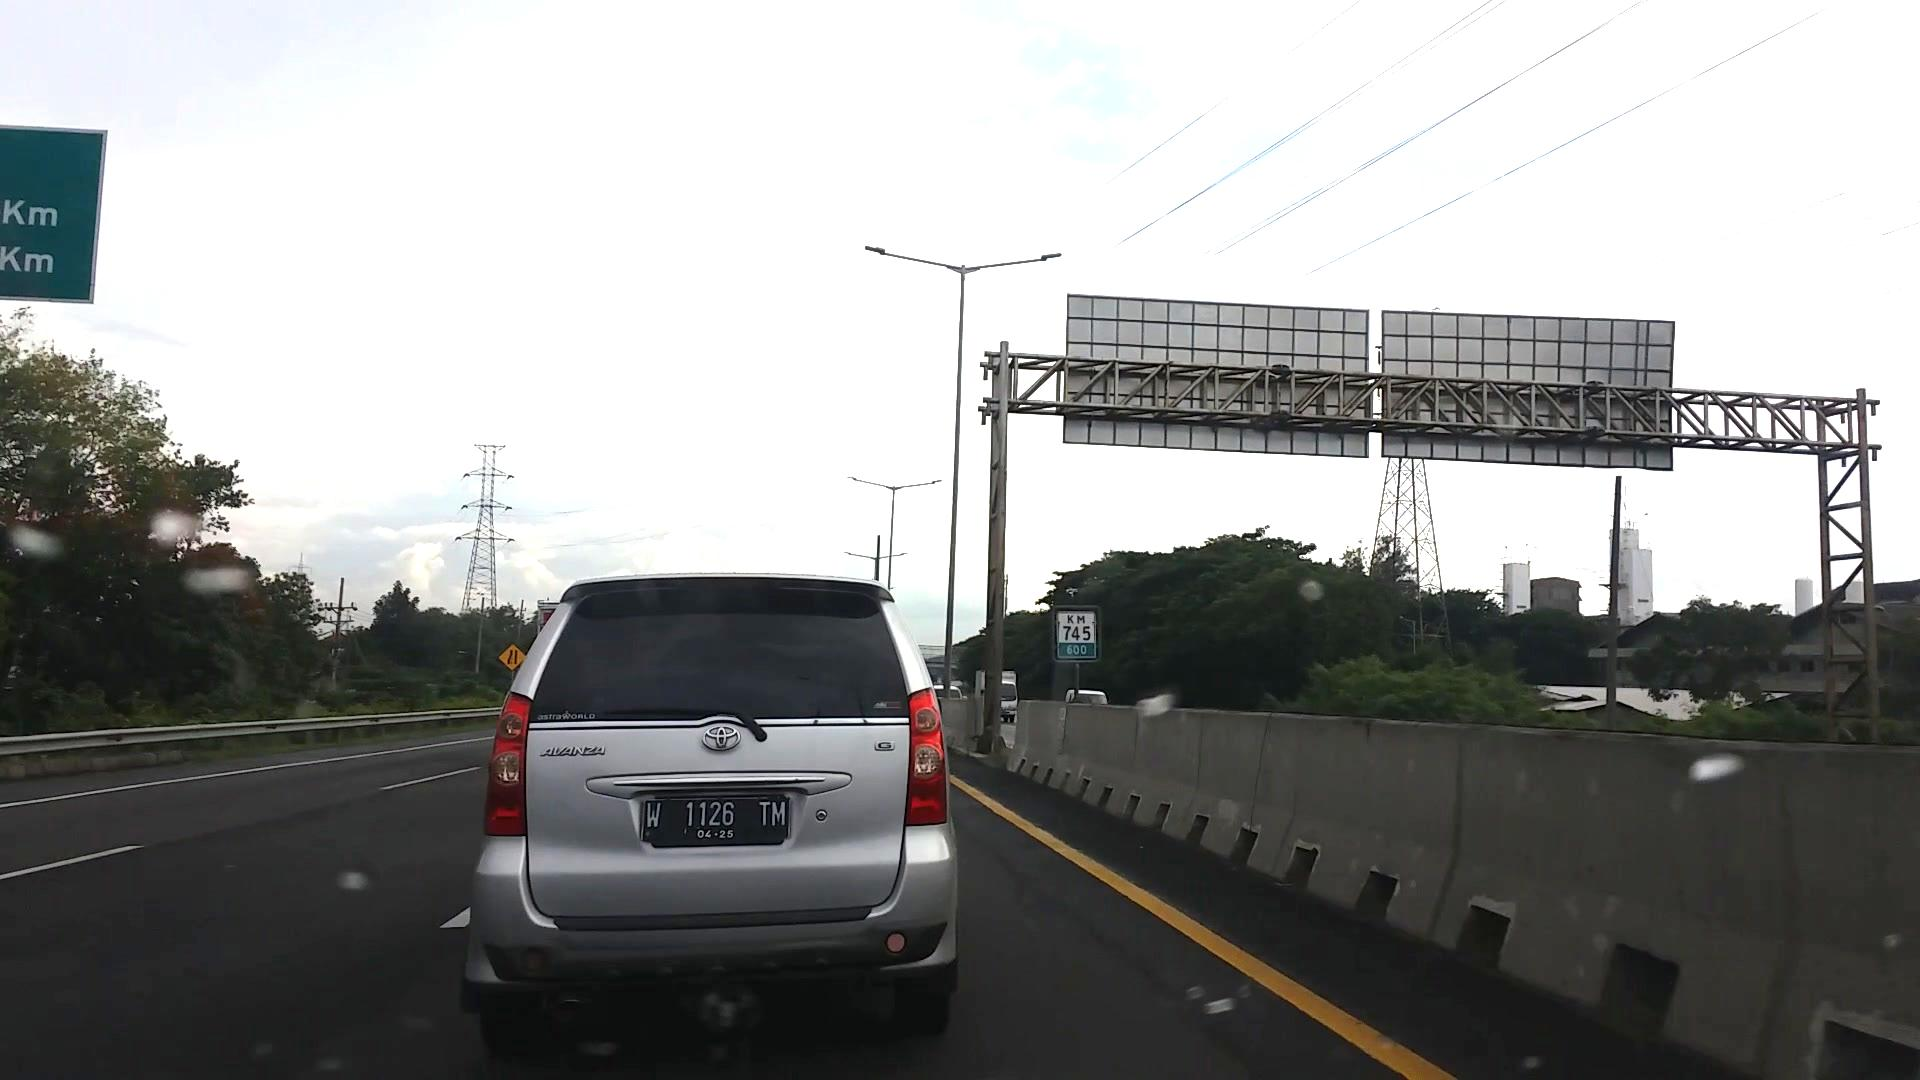plate_positive: (641, 796, 789, 841)
